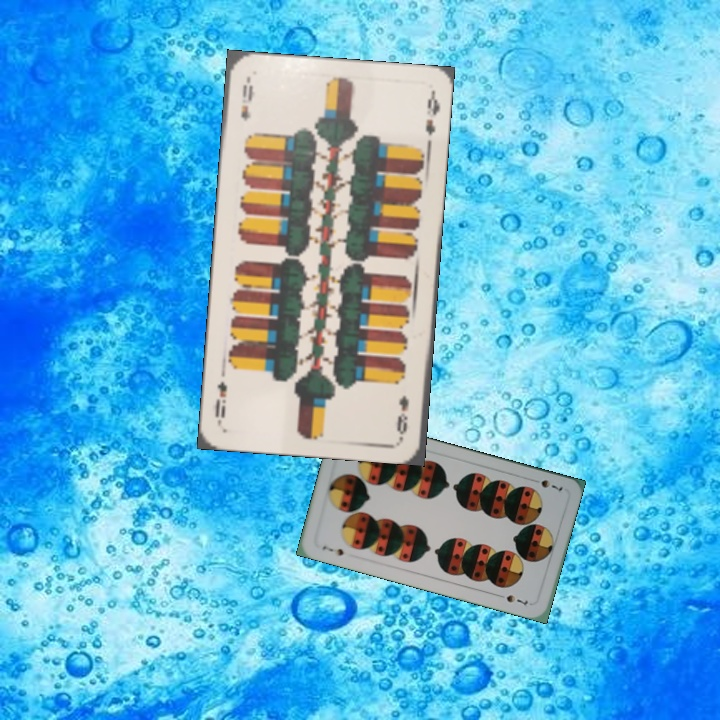E9: (237, 76, 256, 124), (392, 392, 412, 437)
S7: (527, 475, 567, 494), (318, 542, 346, 558)
